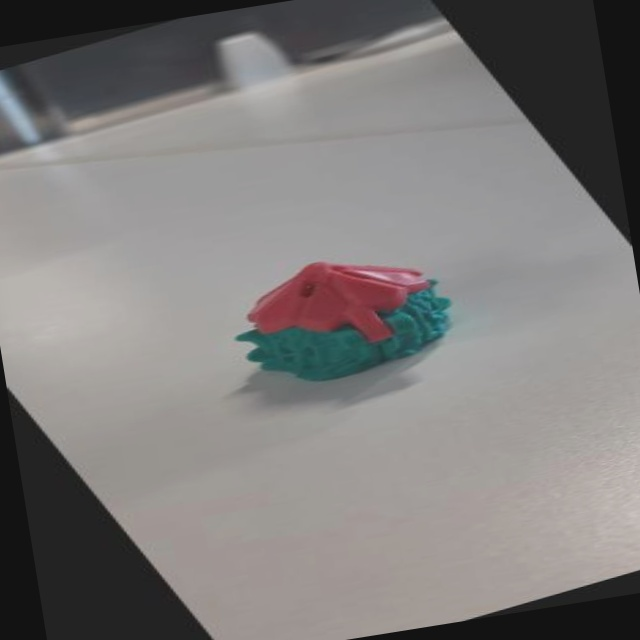House: (173, 218, 496, 413)
